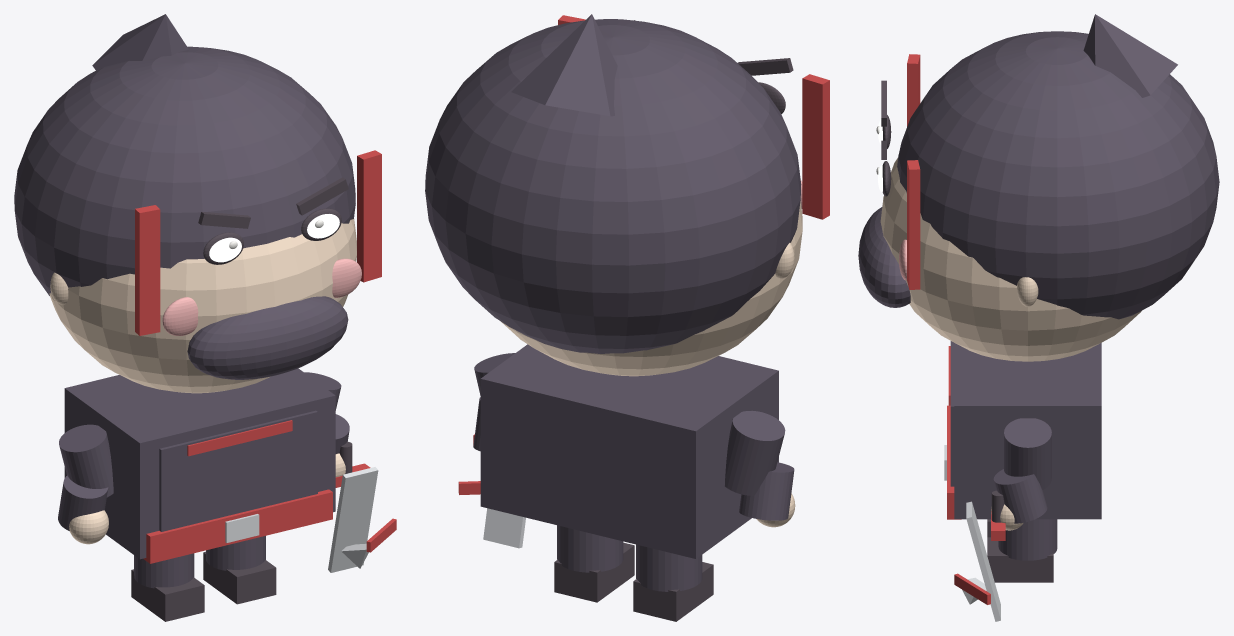
Rendered from assassin.glb.
3 views of the same model, side by side, from view 1: azimuth 30°, elevation 25°; view 2: azimuth 150°, elevation 25°; view 3: azimuth 270°, elevation 25° (orthographic). The views are drawn at different scales.
Parts seen in each view (by area): view 1: Hood, Head, Coat, CoatFront, Mask, Belt, HoodLining_L, DaggerBlade, HoodLining_R, UpperArm_L, HoodTip, Shoe_L (+13 smaller); view 2: Hood, Coat, Head, HoodTip, HoodLining_L, UpperArm_L, Leg_L, Leg_R, Shoe_R, Shoe_L, Forearm_L, DaggerBlade (+1 smaller); view 3: Hood, Coat, Head, HoodTip, Mask, UpperArm_R, Leg_R, Forearm_R, Shoe_R, HoodLining_R, DaggerBlade, HoodLining_L (+4 smaller).
Part boxes in pixels (x1,y1,x2,y2): Hood: (14,46,355,295); Head: (49,219,356,393); Coat: (64,368,335,559); CoatFront: (159,410,317,531); Mask: (187,296,348,379); Belt: (143,489,332,563); HoodLining_L: (135,205,160,335); DaggerBlade: (328,467,378,572); HoodLining_R: (357,150,381,282); UpperArm_L: (59,424,113,497); HoodTip: (92,14,188,71); Shoe_L: (131,569,204,621); Hood: (425,19,801,353); Coat: (480,344,778,558); Head: (501,201,802,376); HoodTip: (511,14,617,116); HoodLining_L: (802,74,829,219); UpperArm_L: (725,410,785,495); Leg_L: (636,544,702,591); Leg_R: (557,525,623,572); Shoe_R: (554,542,634,602); Shoe_L: (633,562,713,621); Forearm_L: (739,462,794,520); DaggerBlade: (483,508,525,548); Hood: (897,31,1219,319); Coat: (954,343,1101,519); Head: (880,158,1141,361); HoodTip: (1083,14,1177,97); Mask: (858,207,910,307); UpperArm_R: (1004,418,1051,489); Leg_R: (998,519,1057,560); Forearm_R: (993,469,1047,523); Shoe_R: (987,537,1053,582); HoodLining_R: (907,160,920,289); DaggerBlade: (966,501,1000,621); HoodLining_L: (907,54,920,126).
Bounding box in the file's own units: 1.19 × 1.93 × 1.17.
